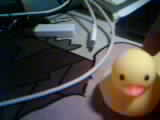duck: (106, 42, 154, 104)
